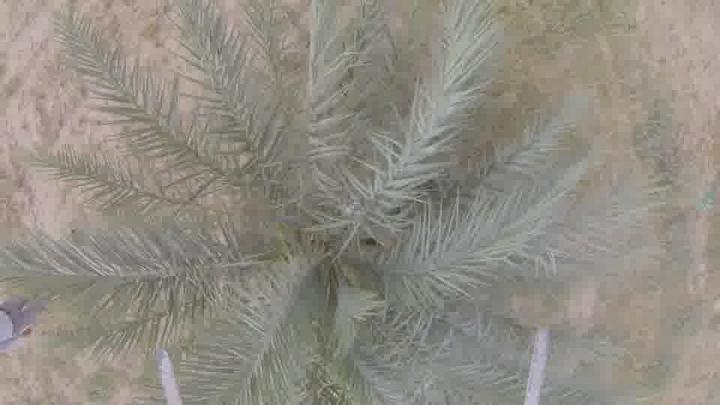Date-Palm-Crown: (133, 84, 527, 405)
